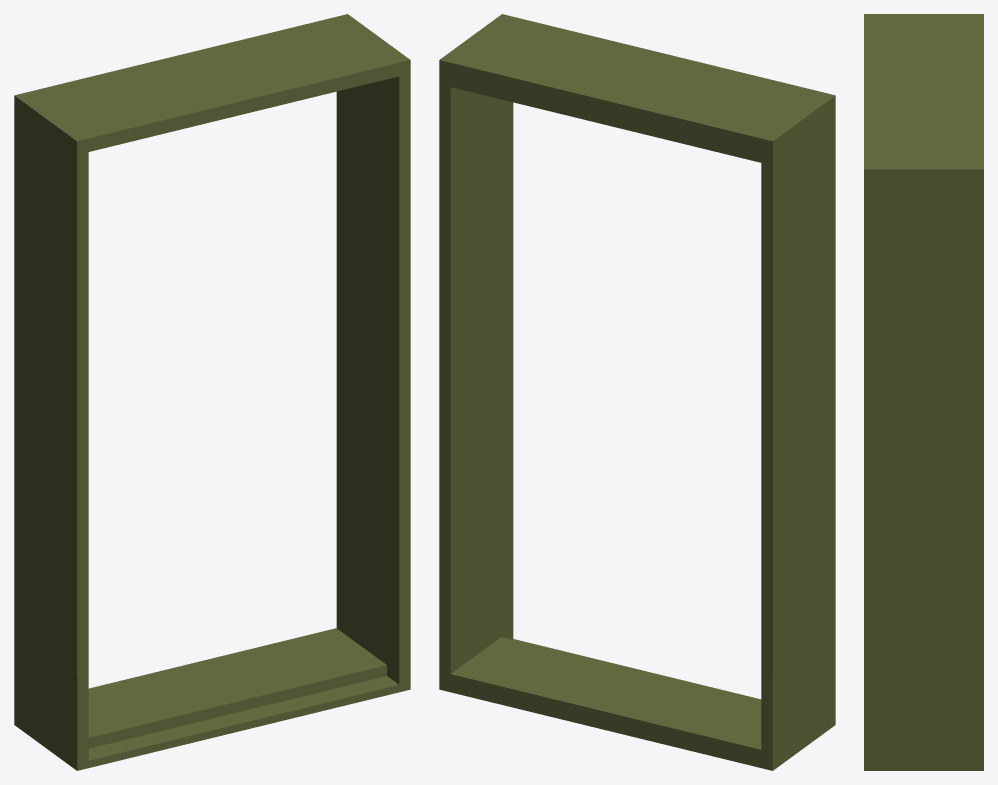
The model's file is Itr_Doorframe_01.FBX.
3 views of the same model, side by side, from view 1: azimuth 30°, elevation 25°; view 2: azimuth 150°, elevation 25°; view 3: azimuth 270°, elevation 25° (orthographic). The views are drawn at different scales.
Parts seen in each view (by area): view 1: Itr_Doorframe_01; view 2: Itr_Doorframe_01; view 3: Itr_Doorframe_01.
Part boxes in pixels (x1=…): Itr_Doorframe_01: x1=14, y1=14, x2=410, y2=770; Itr_Doorframe_01: x1=439, y1=14, x2=835, y2=770; Itr_Doorframe_01: x1=864, y1=14, x2=983, y2=770.
Bounding box in the file's own units: 46.95 × 84.65 × 15.3.
